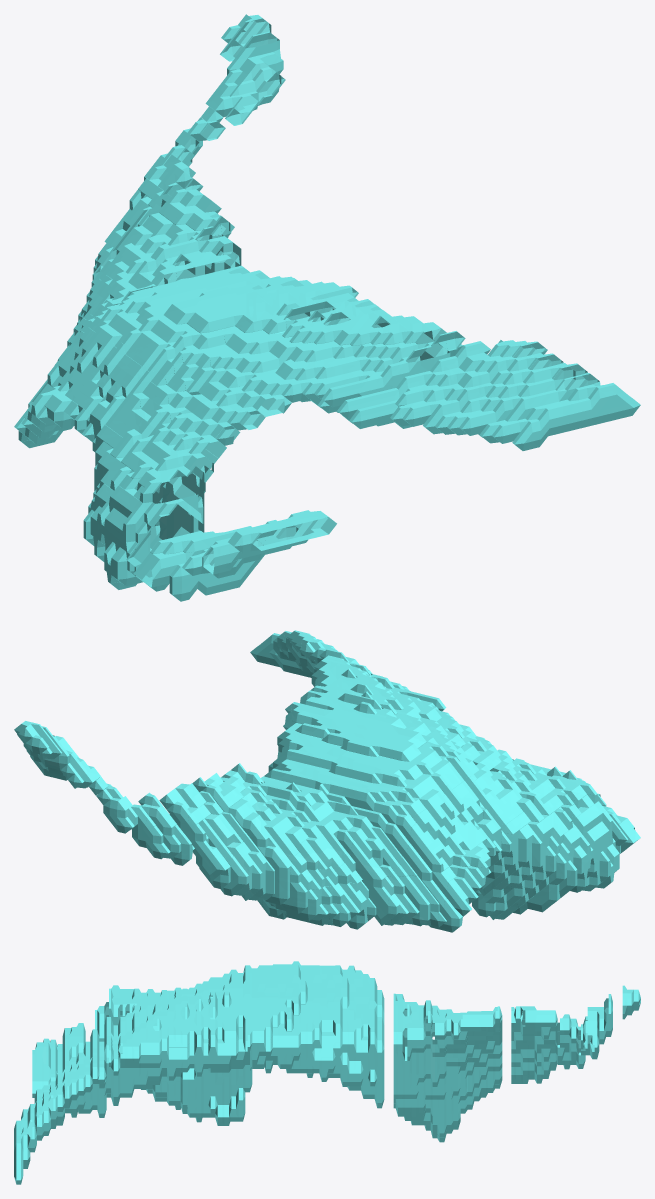
Rendered from SVV_BWM-VR01.gltf.
The picture shows the model from 3 angles, top to bottom: view 1: azimuth 30°, elevation 25°; view 2: azimuth 150°, elevation 25°; view 3: azimuth 270°, elevation 25°; orthographic projection. The views are drawn at different scales.
Parts seen in each view (by area): view 1: BWM-VR01; view 2: BWM-VR01; view 3: BWM-VR01.
Part boxes in pixels (x1,y1,x2,y2): BWM-VR01: (14,14,640,601); BWM-VR01: (14,630,640,932); BWM-VR01: (14,961,640,1184).
Bounding box in the file's own units: 28688 × 17413 × 34706.
